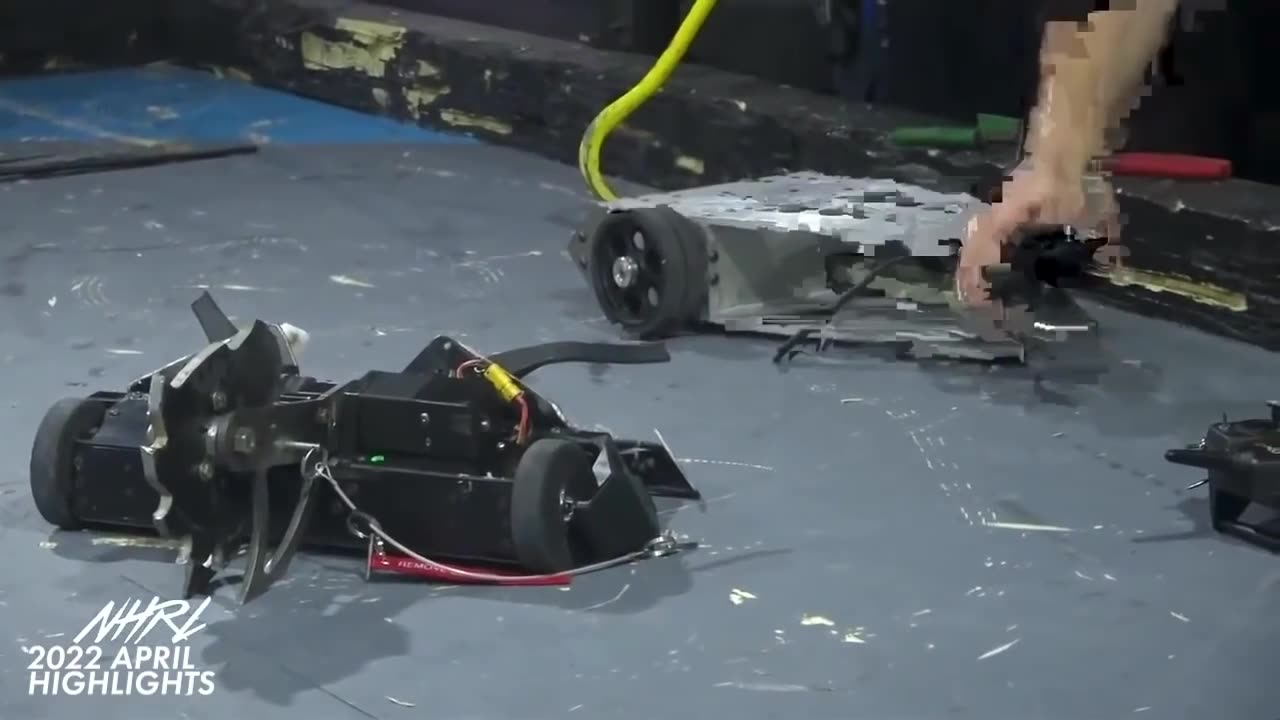combatbot: (29, 296, 702, 608), (567, 168, 1120, 365)
